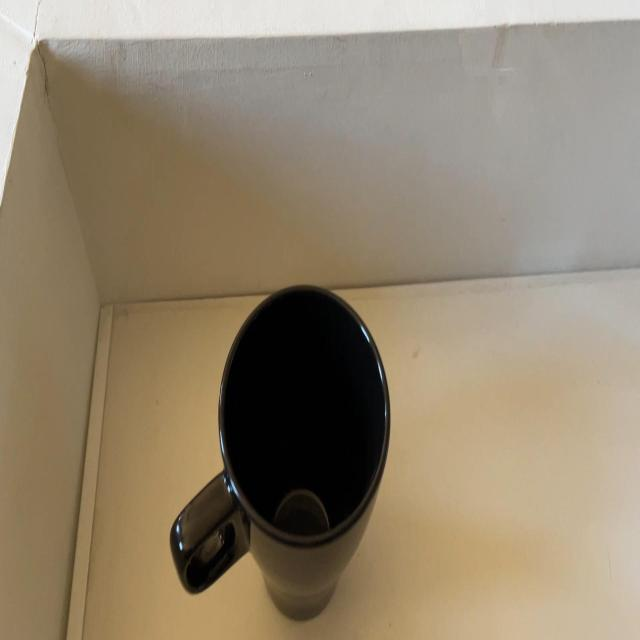cup: (169, 280, 391, 620)
